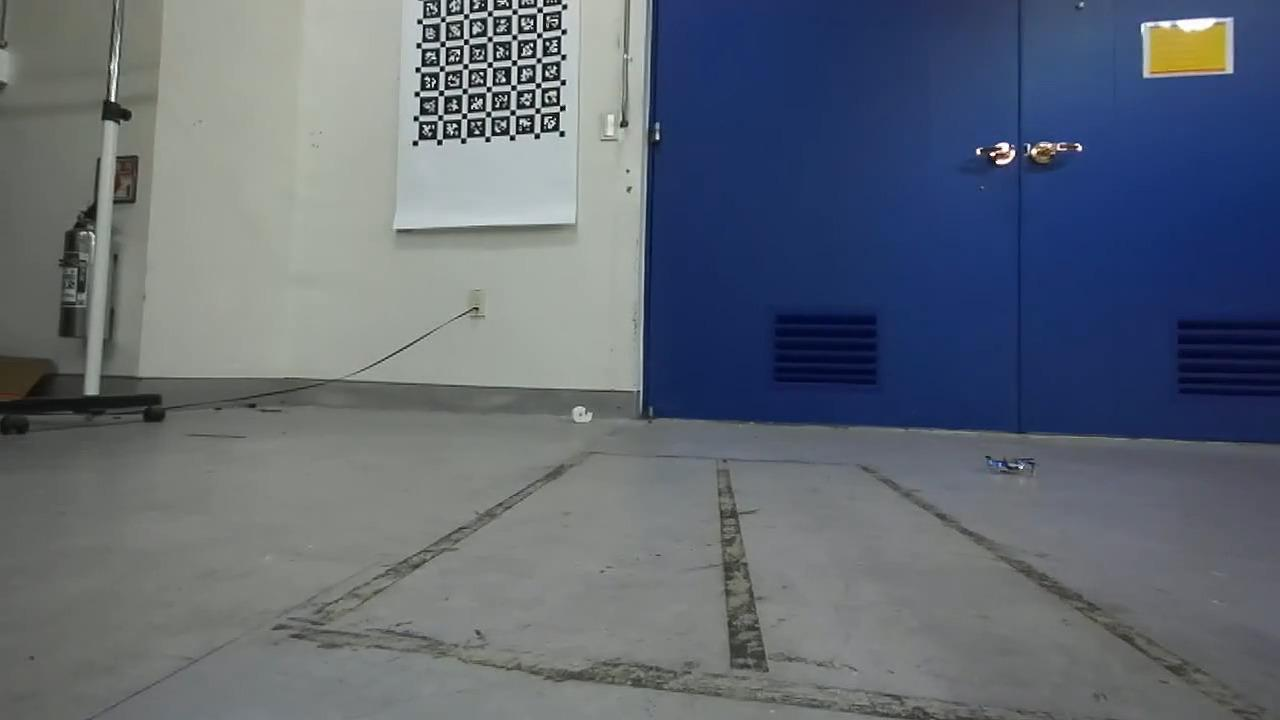crazyflie: (981, 451, 1042, 481)
